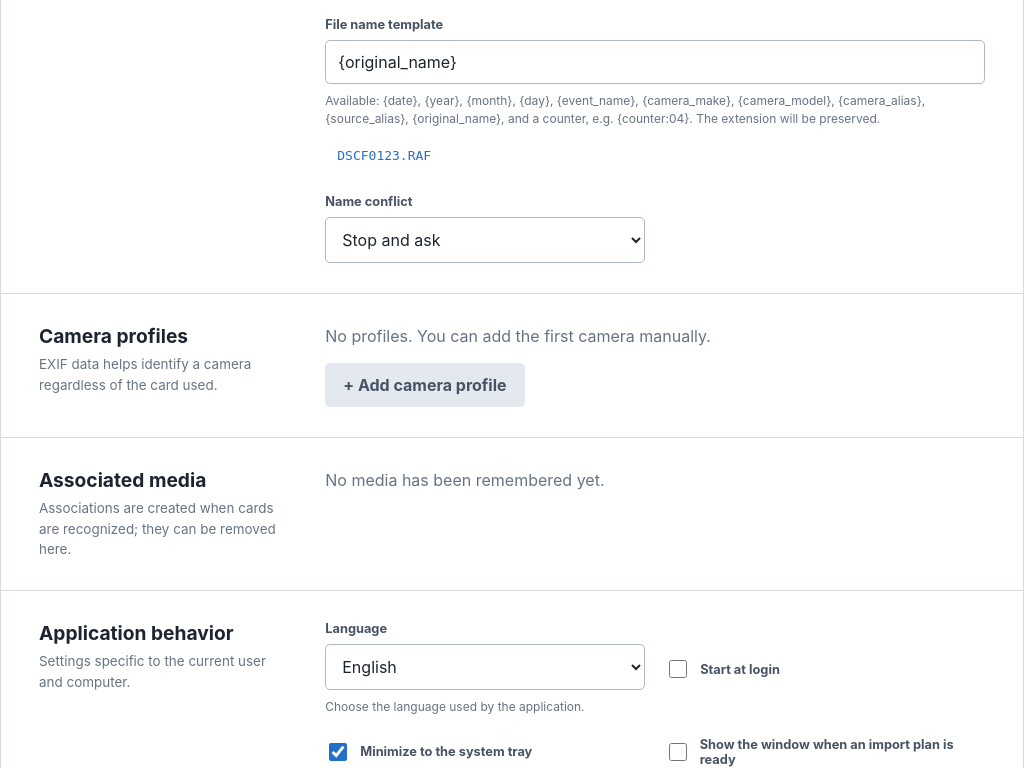
Scenario: SettingsPanel › adds profiles, validates their names and removes their bindings
The width and height of the screenshot is (1024, 768).
(page scrolled)
Expected: the text "No profiles. You can add the first camera manually." is shown, [325, 326, 711, 346]
Click the button "+ Add camera profile". click: (425, 385)
box: [325, 363, 525, 407]
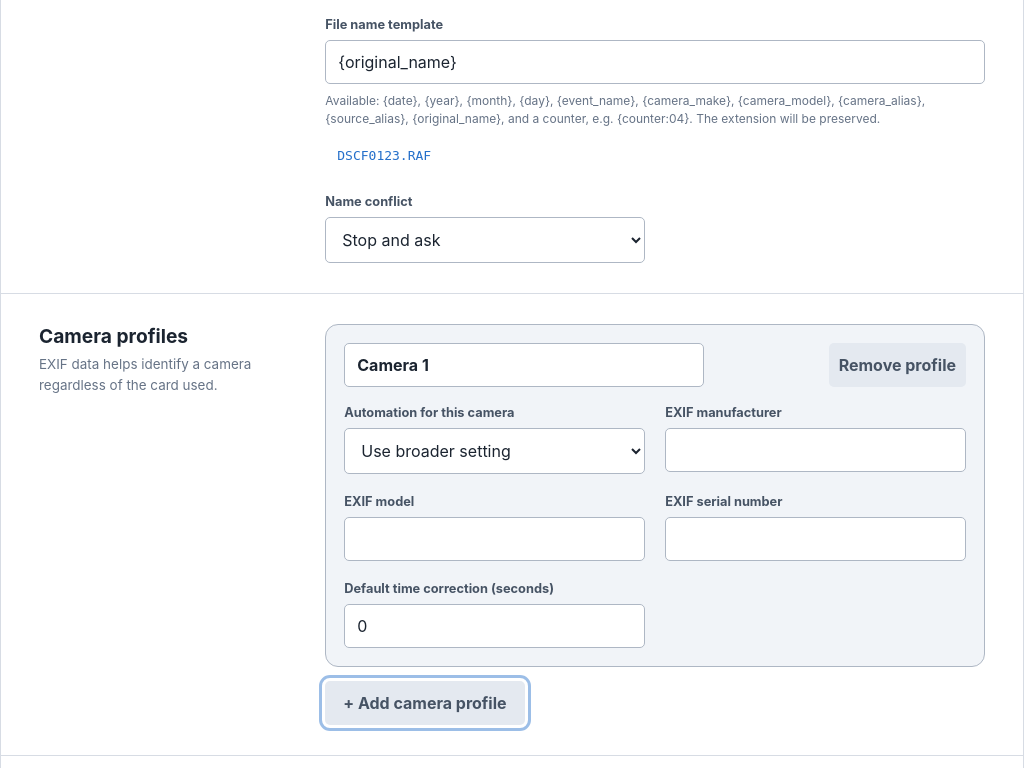
Now the field named "Profile name" holds "Camera 1"
Clear the field named "Profile name". click: (524, 365)
box: [344, 343, 704, 387]
(page scrolled)
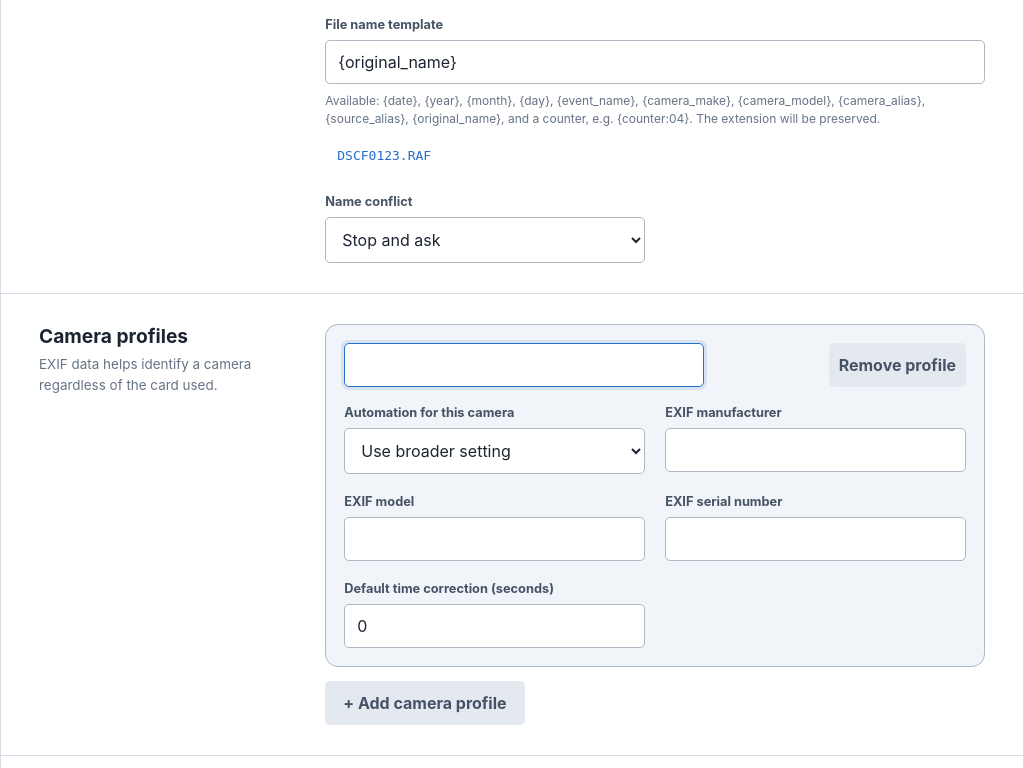
Click the button "Remove profile". click: (897, 365)
box: [829, 343, 966, 387]
(page scrolled)
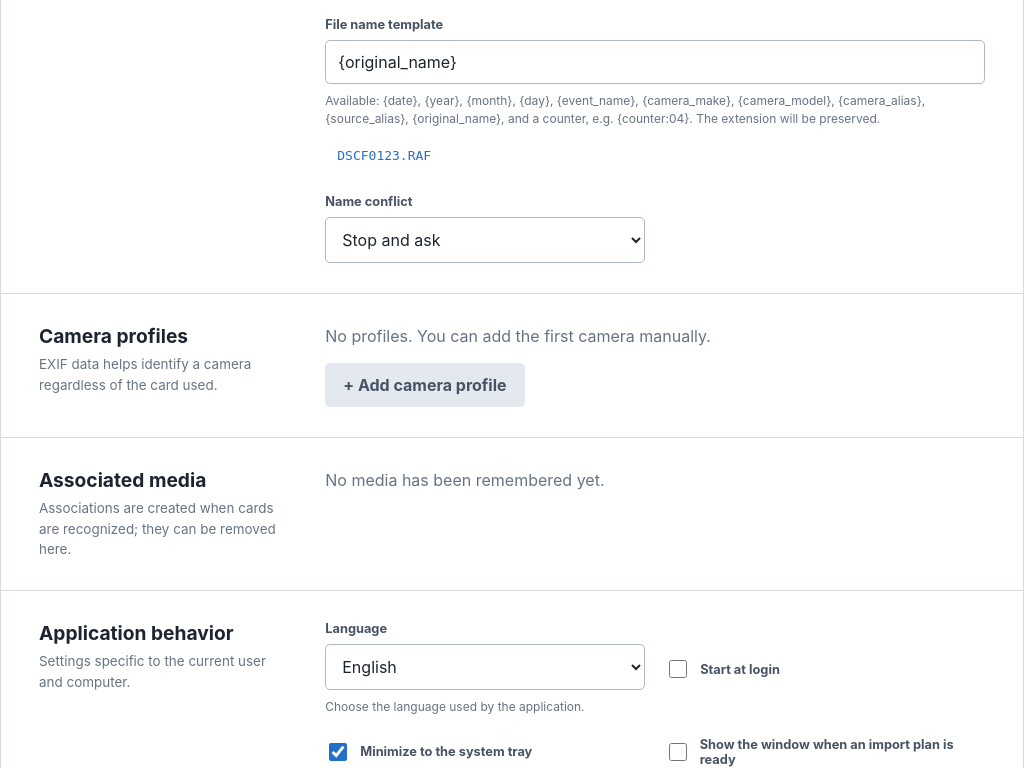
Now the text "No profiles. You can add the first camera manually." is shown, box [325, 326, 711, 346]
